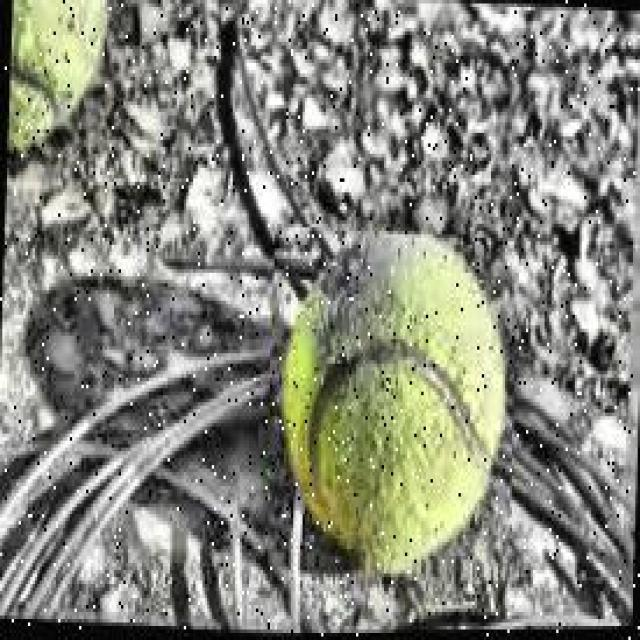tennis-ball: (262, 225, 520, 586), (5, 0, 114, 175)
